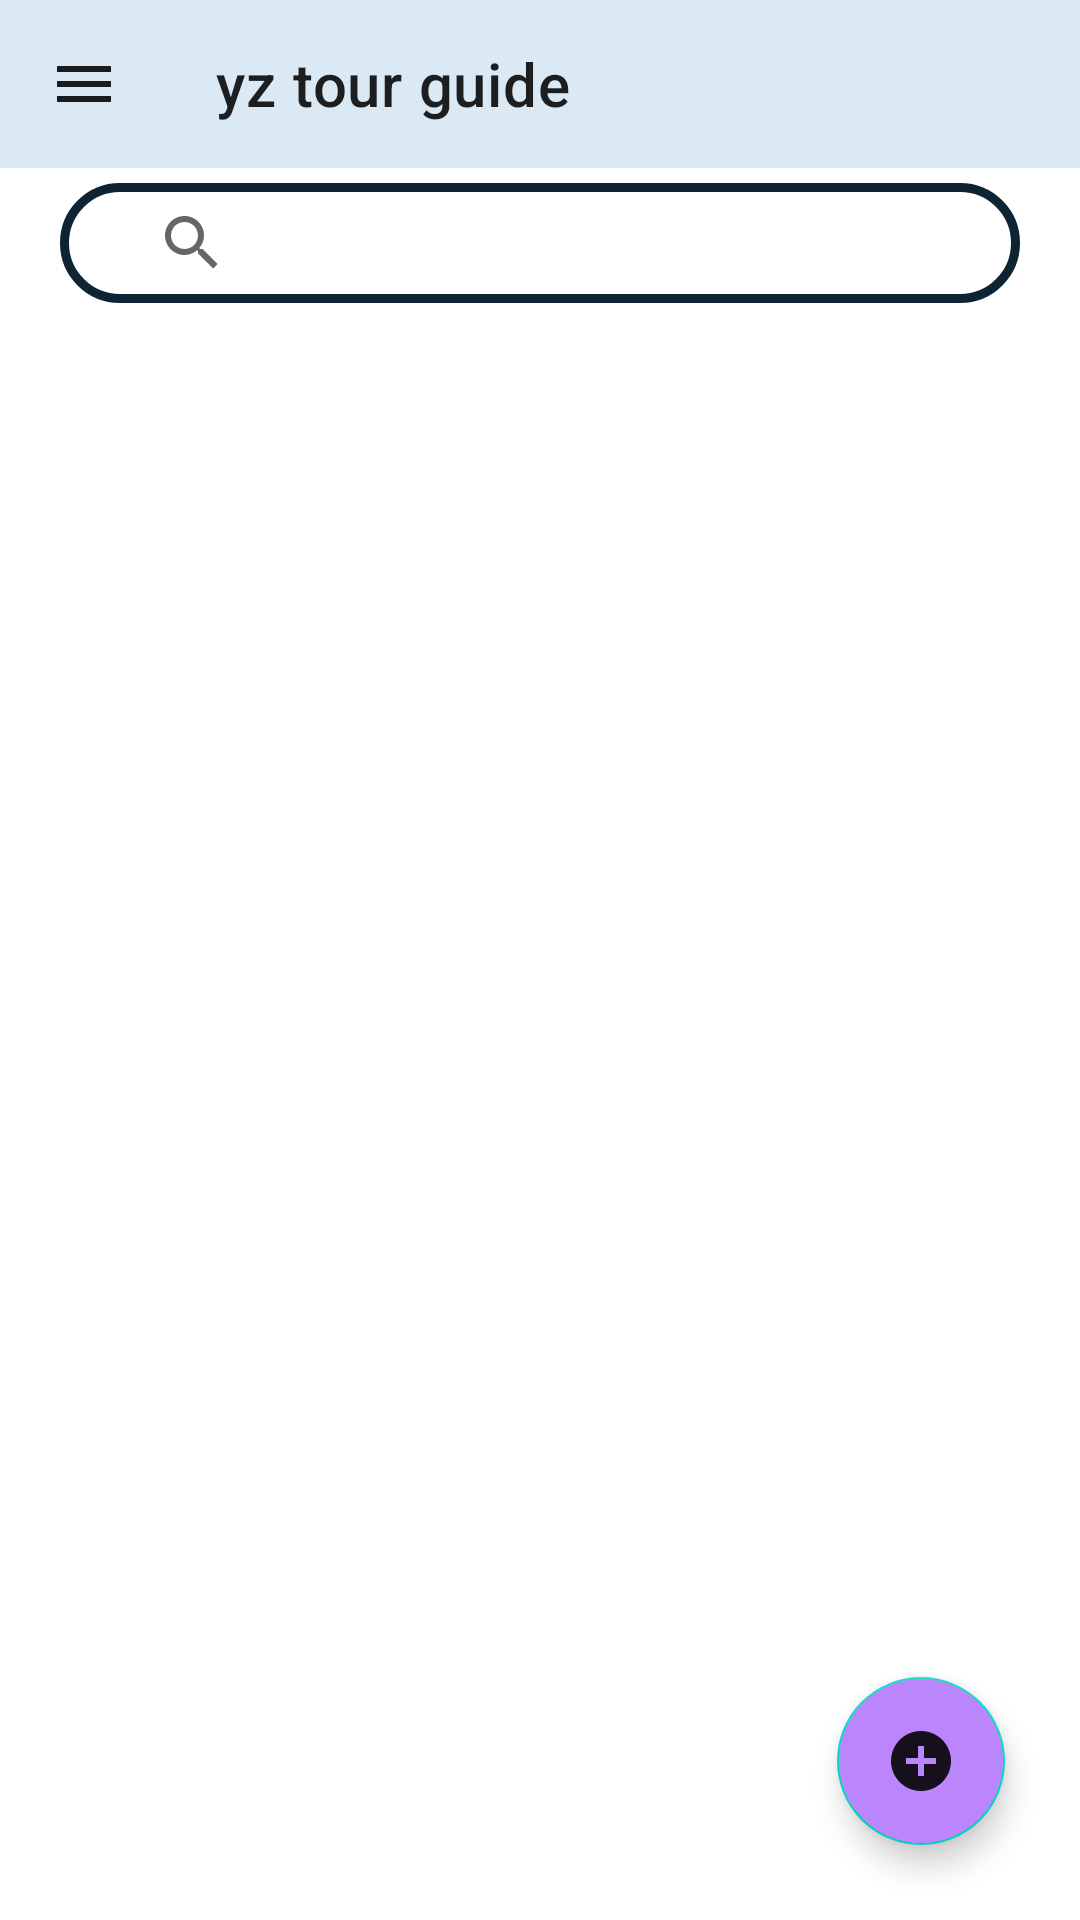

Point at icon controls on the screen. Image size 1080*1920, points as (x=x, y=y).
add circle: (x=921, y=1761)
